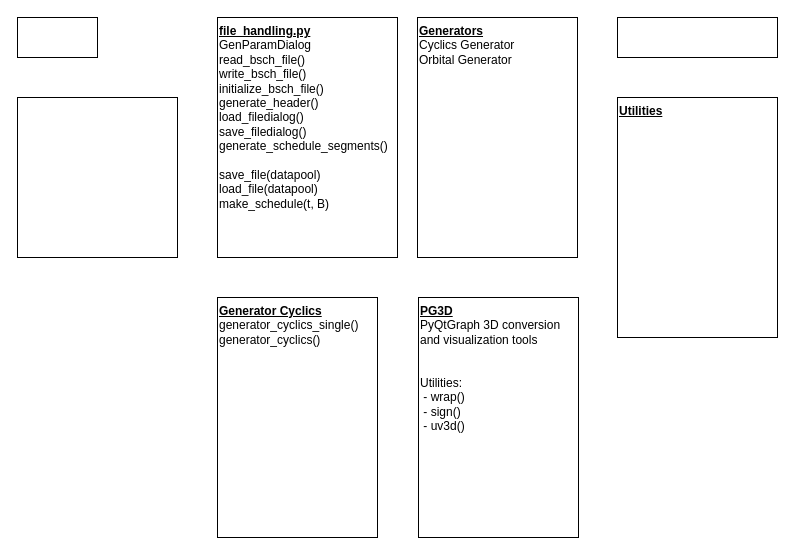
This 795x555 diagram has some shape labels left out. The shapes that lost their labels are listed below. From the top down, each one's box as (x1, y1, x2, y2) in pixels, then its label:
(16, 16, 98, 58): Config
(616, 16, 778, 58): Simple Command Codec 2
(16, 96, 178, 258): Datapool
